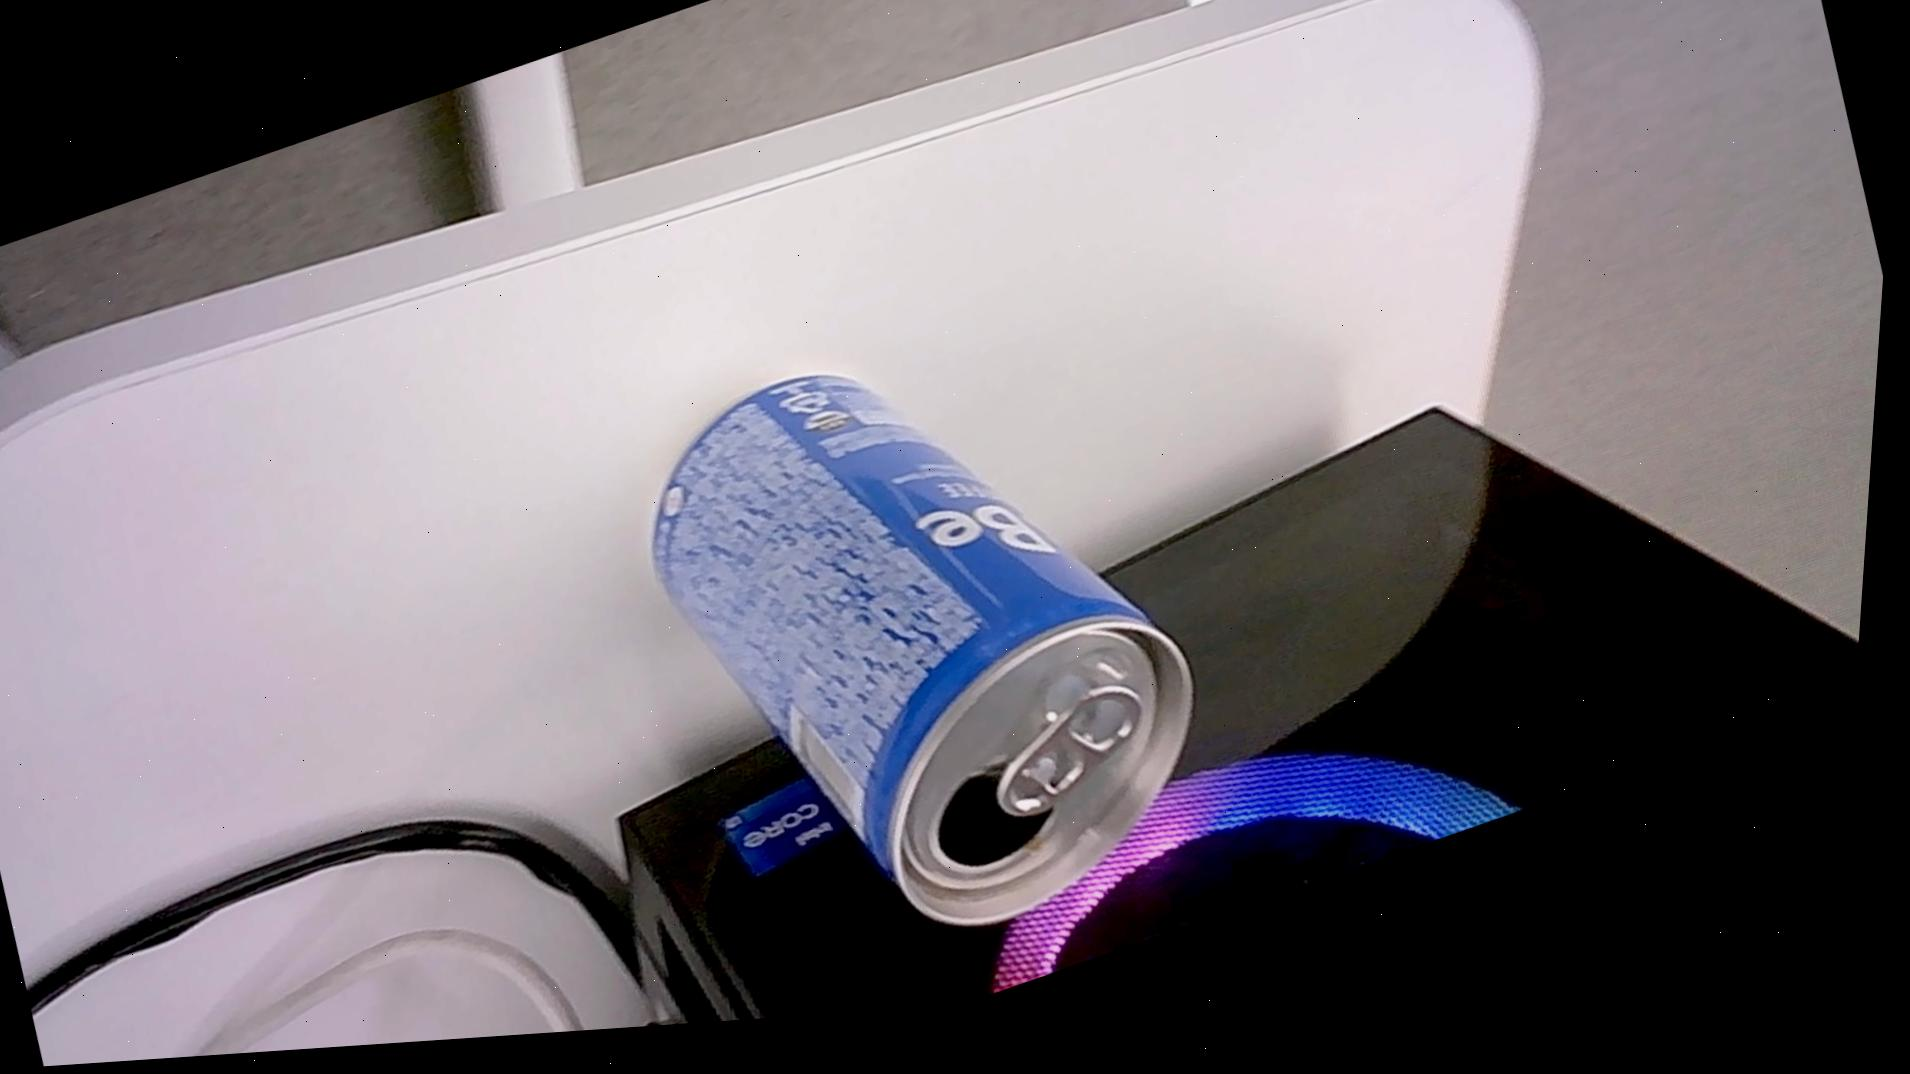letsbe: (597, 274, 1272, 1028)
